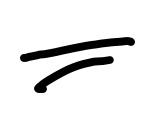eqv: (20, 37, 136, 94)
